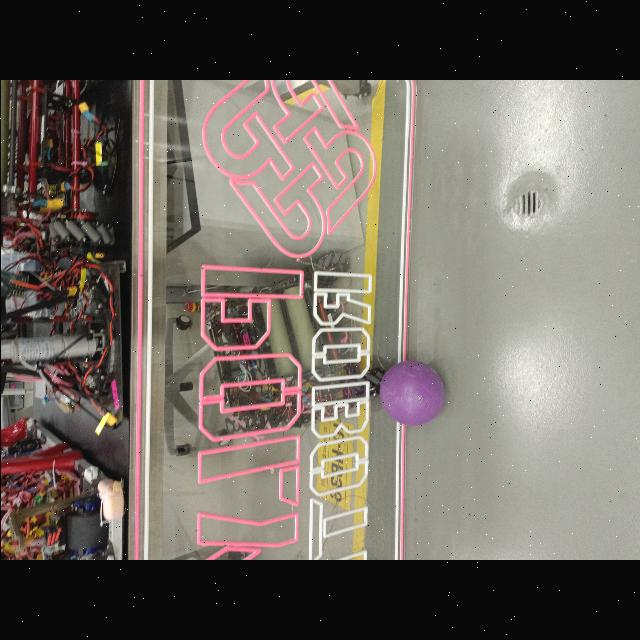P: (378, 362, 446, 426)
